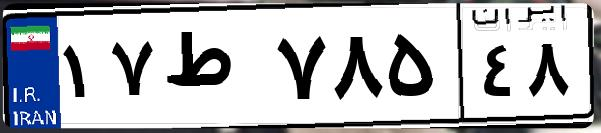1: (57, 26, 110, 100)
4: (475, 38, 525, 113)
5: (385, 28, 445, 110)
7: (270, 28, 330, 110), (110, 28, 158, 98)
8: (330, 28, 385, 110), (525, 38, 570, 115)
ط: (158, 20, 270, 120)
